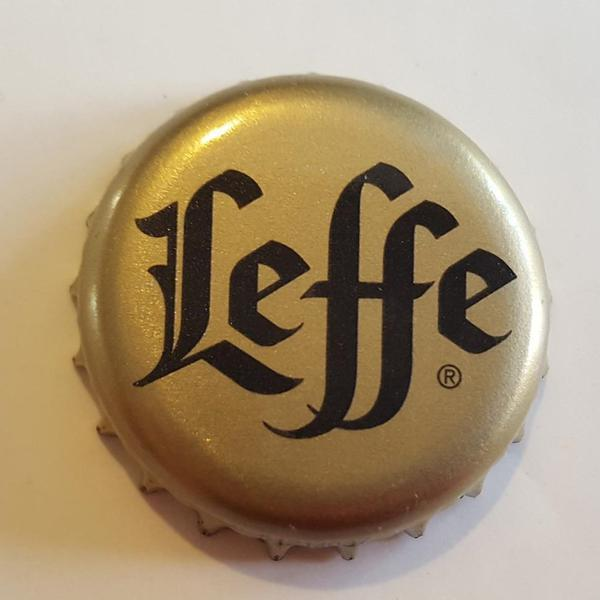leffe: (63, 68, 561, 578)
